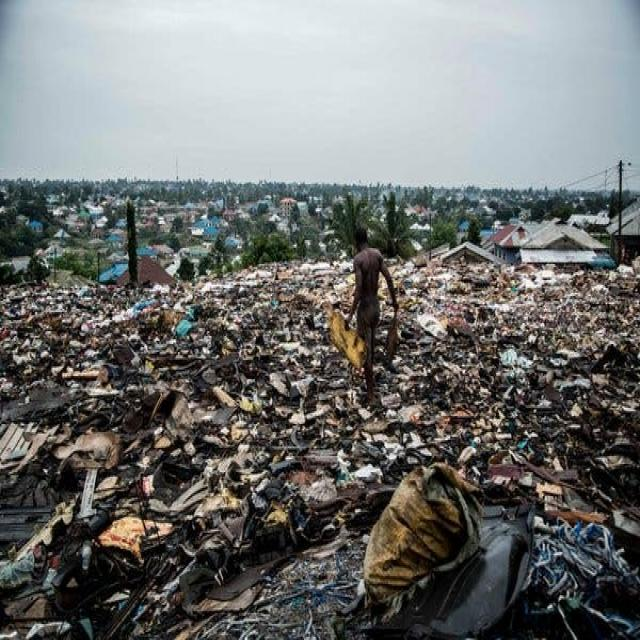hazard: (15, 240, 370, 627), (313, 263, 640, 496)
